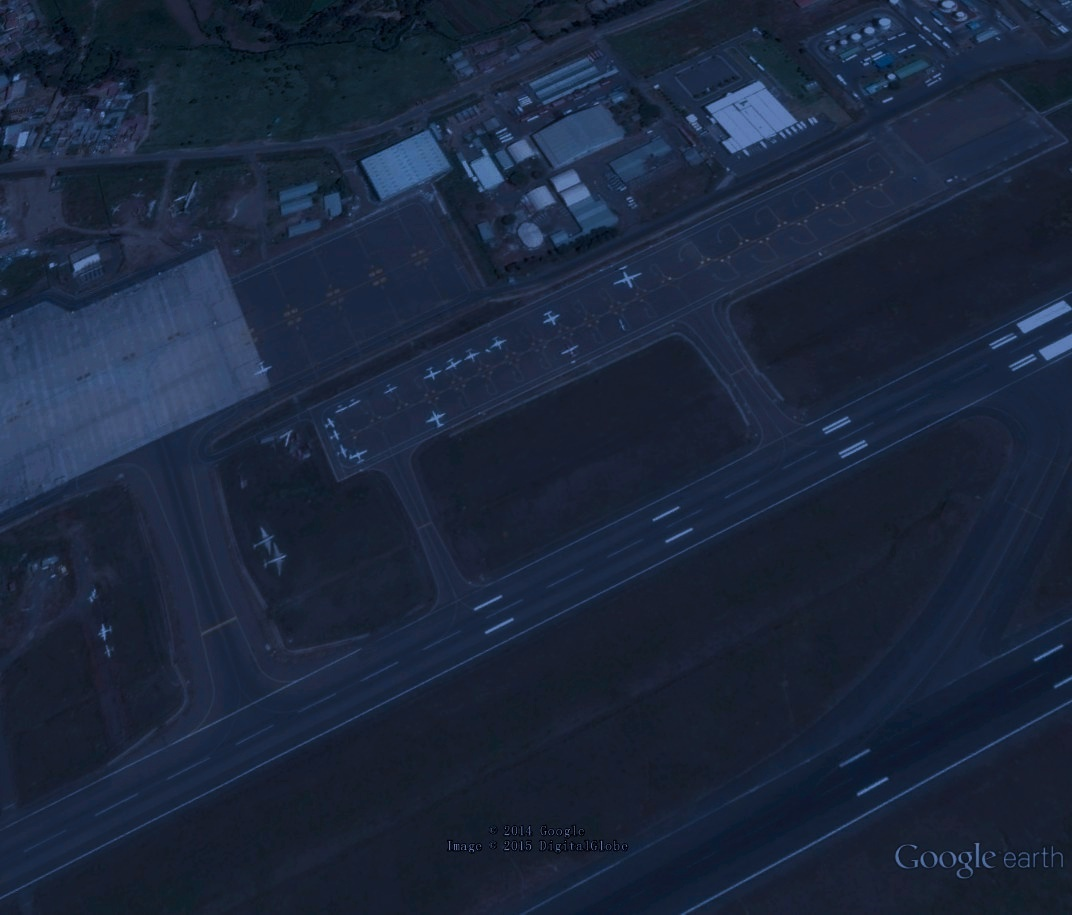aircraft: (259, 541, 292, 582), (610, 263, 646, 294), (250, 522, 278, 559), (251, 360, 277, 382), (95, 619, 116, 646), (425, 409, 449, 432), (420, 363, 444, 386), (542, 307, 564, 331), (347, 446, 373, 466), (559, 342, 586, 361), (85, 586, 106, 609), (487, 334, 510, 354), (462, 346, 482, 368), (441, 355, 465, 373), (333, 442, 351, 462), (100, 645, 118, 664), (326, 428, 345, 445), (380, 381, 400, 396), (322, 417, 341, 432), (333, 402, 350, 418), (347, 395, 364, 411)
